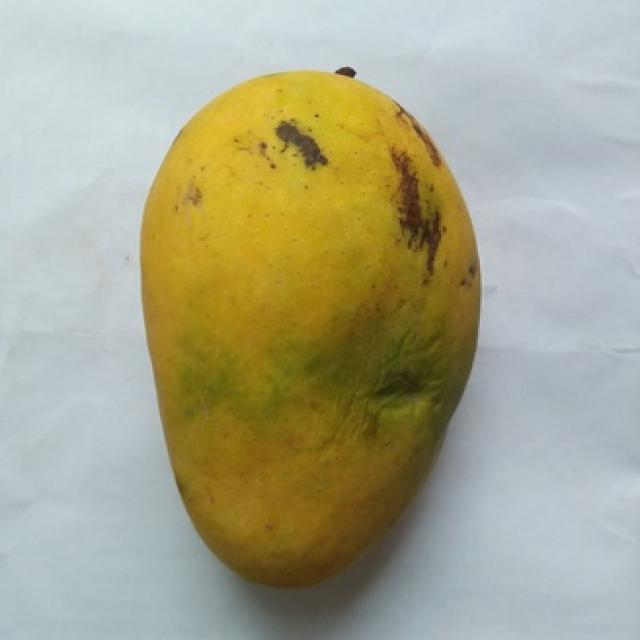Mango: (142, 70, 478, 586)
